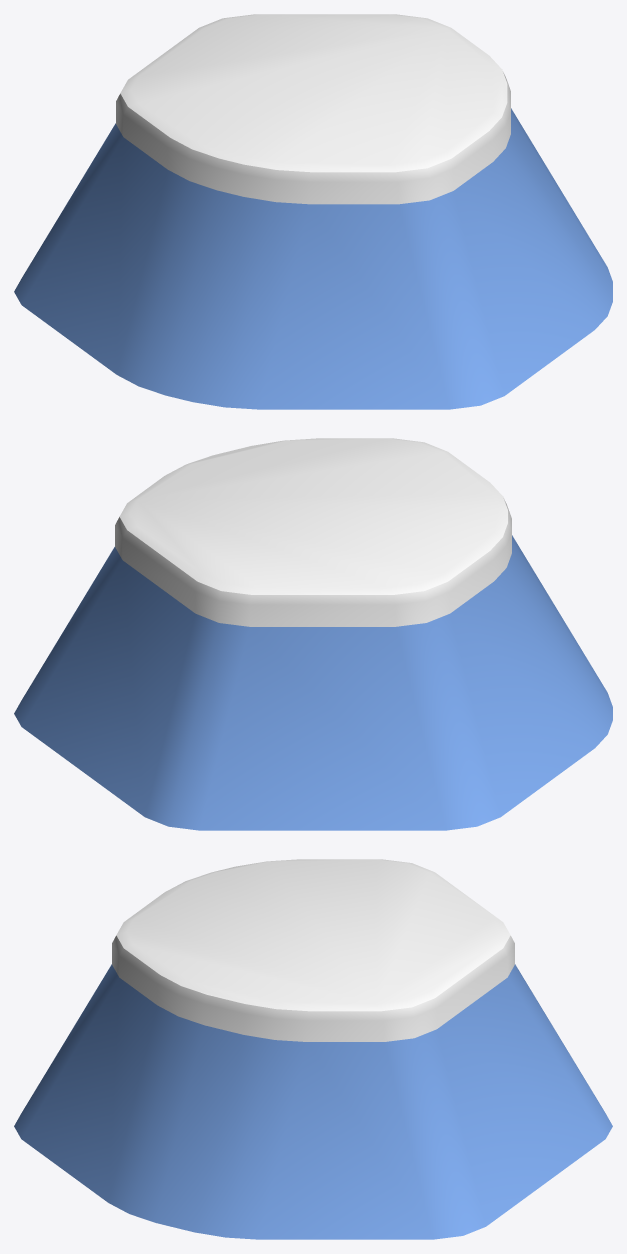
Rendered from HillRock006.fbx.
The picture shows the model from 3 angles, top to bottom: view 1: azimuth 30°, elevation 25°; view 2: azimuth 150°, elevation 25°; view 3: azimuth 270°, elevation 25°; orthographic projection. The views are drawn at different scales.
Visible parts, largest first — view 1: HillRock006; view 2: HillRock006; view 3: HillRock006.
Part boxes in pixels (x1=…): HillRock006: x1=14, y1=14, x2=612, y2=409; HillRock006: x1=14, y1=438, x2=612, y2=830; HillRock006: x1=14, y1=859, x2=612, y2=1239.
Bounding box in the file's own units: 791 × 316 × 883.
